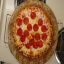pepperoni: (17, 26, 29, 42), (25, 39, 45, 48), (36, 19, 47, 33), (21, 16, 31, 31), (32, 22, 40, 32), (30, 10, 38, 20)
pizza: (14, 6, 52, 59)
